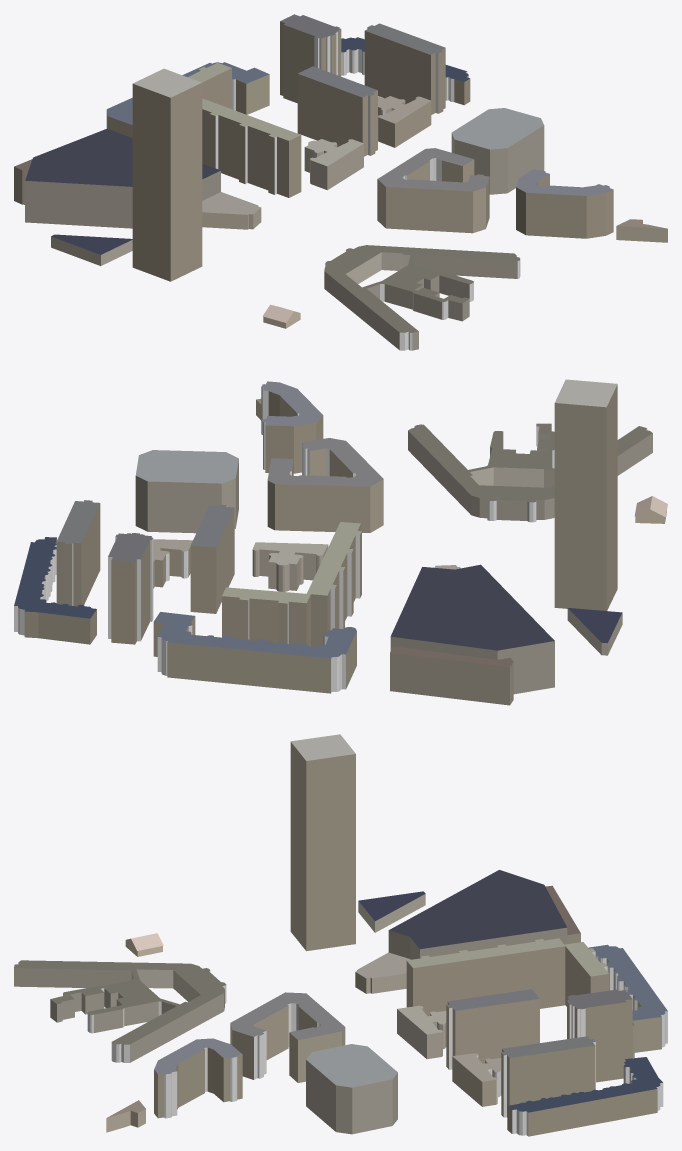
The picture shows the model from 3 angles, top to bottom: view 1: azimuth 30°, elevation 25°; view 2: azimuth 150°, elevation 25°; view 3: azimuth 270°, elevation 25°; orthographic projection. The views are drawn at different scales.
Visible parts, largest first — view 1: tuile; view 2: tuile; view 3: tuile.
Part boxes in pixels (x1,y1,x2,y2): tuile: [14, 14, 667, 350]; tuile: [14, 379, 667, 705]; tuile: [14, 734, 667, 1136].
Size of the model in its own units: 264 by 102 by 309.
